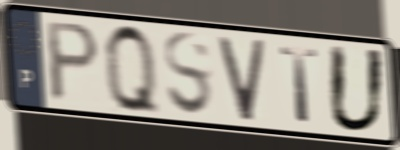P: (45, 18, 103, 105)
Q: (101, 19, 164, 120)
S: (161, 28, 216, 120)
T: (277, 43, 322, 126)
U: (326, 42, 388, 136)
V: (215, 34, 268, 125)
